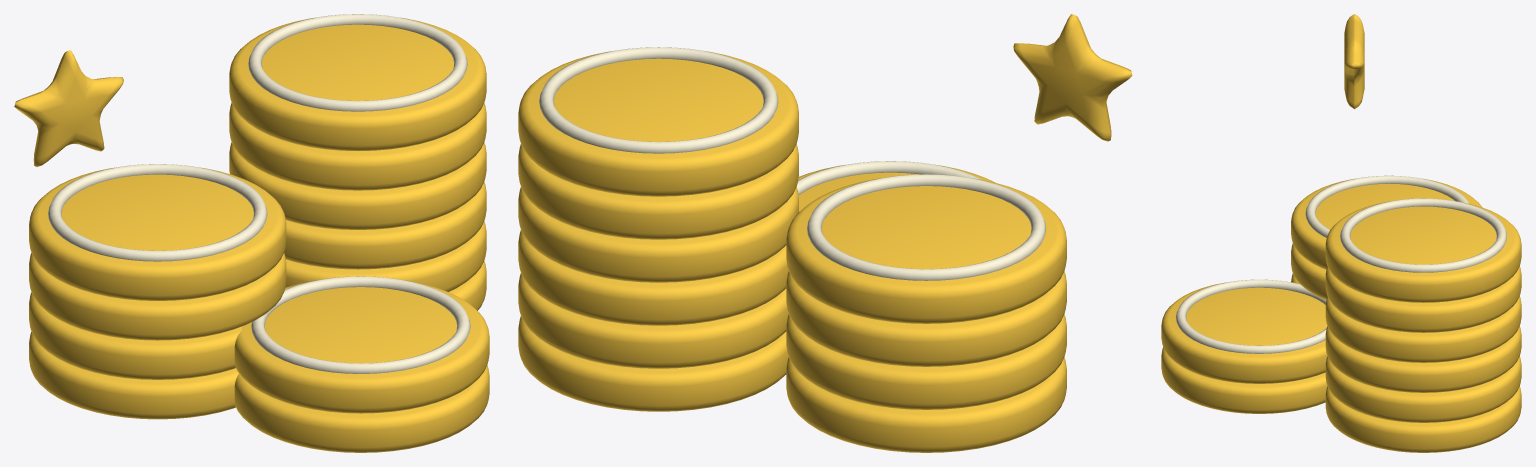
File: coins.glb
The picture shows the model from 3 angles, left to right: view 1: azimuth 30°, elevation 25°; view 2: azimuth 150°, elevation 25°; view 3: azimuth 270°, elevation 25°; orthographic projection. The views are drawn at different scales.
Parts seen in each view (by area): view 1: Brass coin.003, Brass coin.009, Brass coin.011, Brass coin.002, Brass coin.008, Brass coin.010, Brass coin.007, Brass coin.001, Brass coin, Brass coin.006, Earned star, Raised coin rim.003 (+4 smaller); view 2: Brass coin.003, Brass coin.009, Brass coin.008, Brass coin.001, Brass coin.002, Brass coin, Brass coin.007, Brass coin.005, Brass coin.006, Brass coin.004, Earned star, Raised coin rim.003 (+3 smaller); view 3: Brass coin.009, Brass coin.011, Brass coin.008, Brass coin.007, Brass coin.006, Brass coin.004, Brass coin.005, Brass coin.010, Brass coin.003, Raised coin rim.009, Raised coin rim.011, Raised coin rim.003 (+2 smaller).
Boxes of the visible parts, x1=… form: Brass coin.003: x1=29, y1=167, x2=286, y2=300; Brass coin.009: x1=229, y1=17, x2=486, y2=150; Brass coin.011: x1=234, y1=280, x2=489, y2=413; Brass coin.002: x1=29, y1=252, x2=286, y2=340; Brass coin.008: x1=229, y1=103, x2=486, y2=190; Brass coin.010: x1=234, y1=365, x2=489, y2=452; Brass coin.007: x1=229, y1=142, x2=486, y2=229; Brass coin.001: x1=29, y1=292, x2=241, y2=379; Brass coin: x1=29, y1=332, x2=238, y2=419; Brass coin.006: x1=284, y1=182, x2=486, y2=269; Earned star: x1=14, y1=50, x2=123, y2=166; Raised coin rim.003: x1=48, y1=164, x2=267, y2=261; Brass coin.003: x1=786, y1=178, x2=1066, y2=323; Brass coin.009: x1=518, y1=51, x2=798, y2=196; Brass coin.008: x1=518, y1=144, x2=798, y2=239; Brass coin.001: x1=786, y1=314, x2=1066, y2=409; Brass coin.002: x1=786, y1=271, x2=1066, y2=366; Brass coin: x1=786, y1=357, x2=1066, y2=452; Brass coin.007: x1=518, y1=187, x2=798, y2=282; Brass coin.005: x1=518, y1=273, x2=788, y2=368; Brass coin.006: x1=518, y1=230, x2=788, y2=325; Brass coin.004: x1=518, y1=316, x2=788, y2=411; Earned star: x1=1013, y1=14, x2=1132, y2=141; Raised coin rim.003: x1=807, y1=174, x2=1046, y2=280; Brass coin.009: x1=1325, y1=201, x2=1521, y2=302; Brass coin.011: x1=1161, y1=282, x2=1327, y2=383; Brass coin.008: x1=1325, y1=266, x2=1521, y2=332; Brass coin.007: x1=1325, y1=296, x2=1521, y2=362; Brass coin.006: x1=1325, y1=326, x2=1521, y2=392; Brass coin.004: x1=1325, y1=386, x2=1521, y2=452; Brass coin.005: x1=1325, y1=356, x2=1521, y2=422; Brass coin.010: x1=1161, y1=347, x2=1327, y2=413; Brass coin.003: x1=1291, y1=178, x2=1482, y2=269; Raised coin rim.009: x1=1340, y1=198, x2=1506, y2=272; Raised coin rim.011: x1=1176, y1=279, x2=1326, y2=353; Raised coin rim.003: x1=1305, y1=175, x2=1468, y2=237.
Size of the model in its own units: 1.53 by 1.05 by 1.25.
